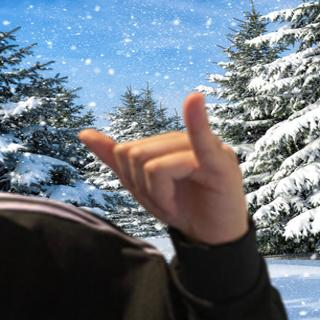HAVE: (78, 90, 251, 242)
